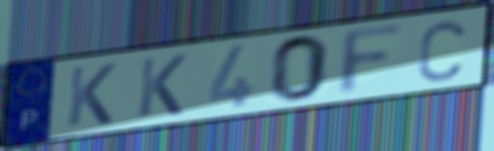0: (266, 33, 338, 105)
4: (206, 41, 257, 111)
C: (415, 18, 468, 85)
F: (334, 20, 411, 100)
K: (134, 52, 190, 120), (64, 61, 120, 129)
